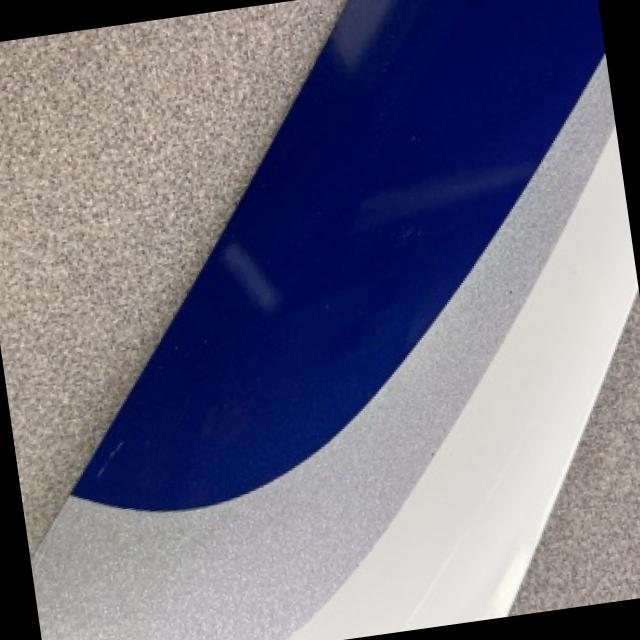healthy: (35, 505, 354, 640)
